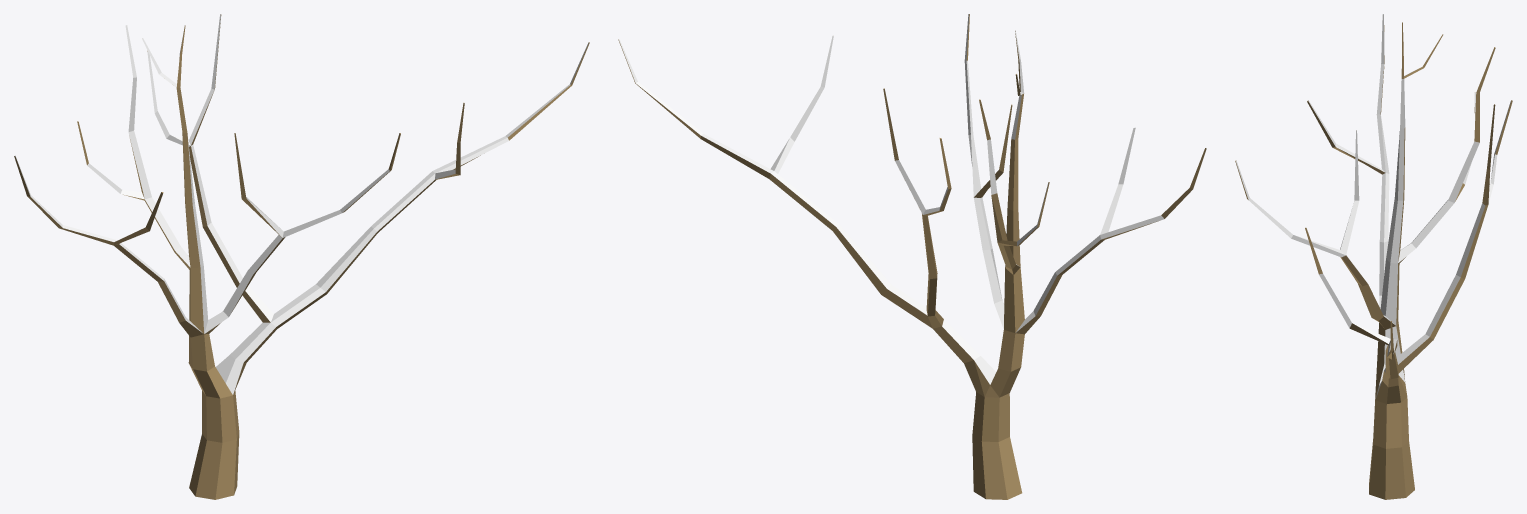
Rendered from Acacia_Tree_NoLeaves_l_Snow_BT_01.fbx.
3 views of the same model, side by side, from view 1: azimuth 30°, elevation 25°; view 2: azimuth 150°, elevation 25°; view 3: azimuth 270°, elevation 25° (orthographic). The views are drawn at different scales.
Visible parts, largest first — view 1: Acacia_Tree_NoLeaves_l_Snow_BT_01; view 2: Acacia_Tree_NoLeaves_l_Snow_BT_01; view 3: Acacia_Tree_NoLeaves_l_Snow_BT_01.
Part boxes in pixels (box(x1,y1,x2,y2)): Acacia_Tree_NoLeaves_l_Snow_BT_01: box(14, 14, 589, 499); Acacia_Tree_NoLeaves_l_Snow_BT_01: box(618, 14, 1206, 499); Acacia_Tree_NoLeaves_l_Snow_BT_01: box(1235, 14, 1512, 499).
Size of the model in its own units: 1530 by 1174 by 646.
